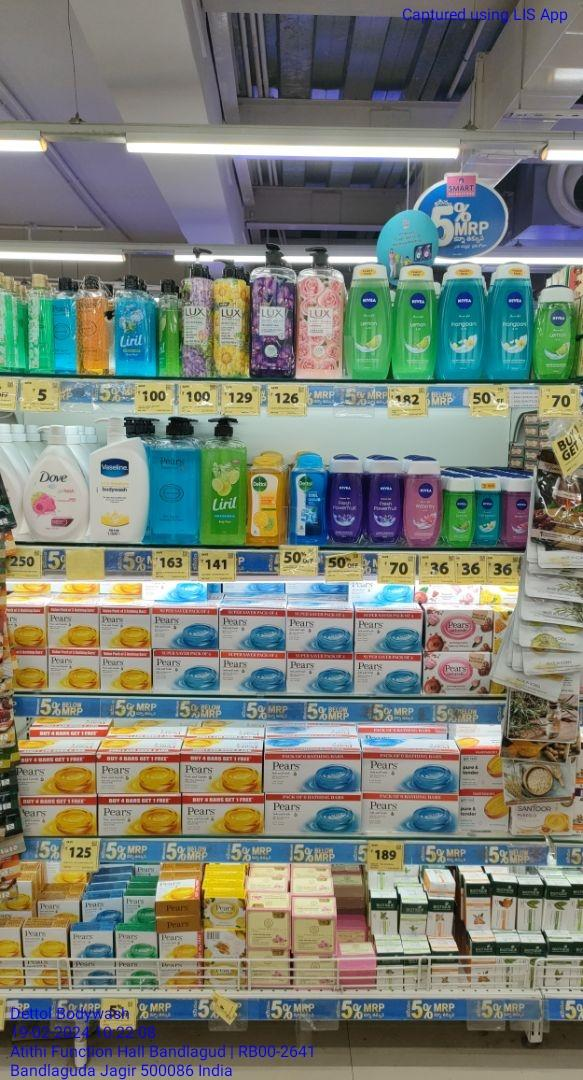Dettol_Bodywash_Cool: (288, 452, 328, 544)
Dettol_Bodywash_Refresh: (248, 456, 284, 547)
Liril_Cooling_Mint_Body_Wash_250ML: (115, 275, 156, 378)
Lux_Body_Wash_Skin_Detox_Freesia_Scent_and_Alove_Vera_245ML: (26, 273, 50, 375)
Nivea_Shower_Gel_Frangipani_and_Oil_250ML: (475, 475, 502, 546)
Nivea_Shower_Gel_Fresh_Powerfruit_250ML: (367, 456, 403, 545), (329, 454, 363, 546)
Nivea_Shower_Gel_Lemon_and_Oil_250ML: (535, 286, 575, 381), (444, 475, 475, 548)
Nivea_Shower_Gel_Waterlily_and_Oil_250ML: (404, 457, 442, 549), (505, 477, 529, 548)
Pears_Pure_Glycerin_and_Mint_Extracts_Body_Wash_250ML: (51, 278, 77, 375)
